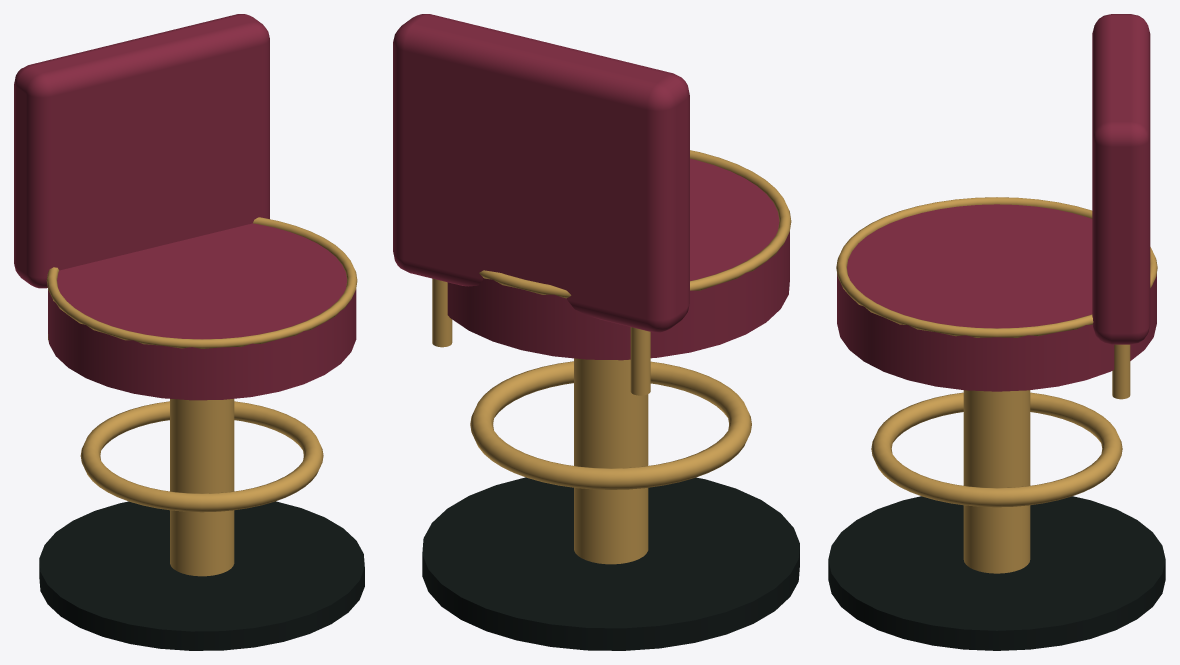
The model's file is chair.glb.
The picture shows the model from 3 angles, left to right: view 1: azimuth 30°, elevation 25°; view 2: azimuth 150°, elevation 25°; view 3: azimuth 270°, elevation 25°; orthographic projection. The views are drawn at different scales.
Visible parts, largest first — view 1: chair; view 2: chair; view 3: chair.
Part boxes in pixels (x1,y1,x2,y2): chair: [14, 14, 364, 650]; chair: [393, 14, 799, 650]; chair: [828, 14, 1165, 650].
Size of the model in its own units: 0.76 by 1.27 by 0.76.
